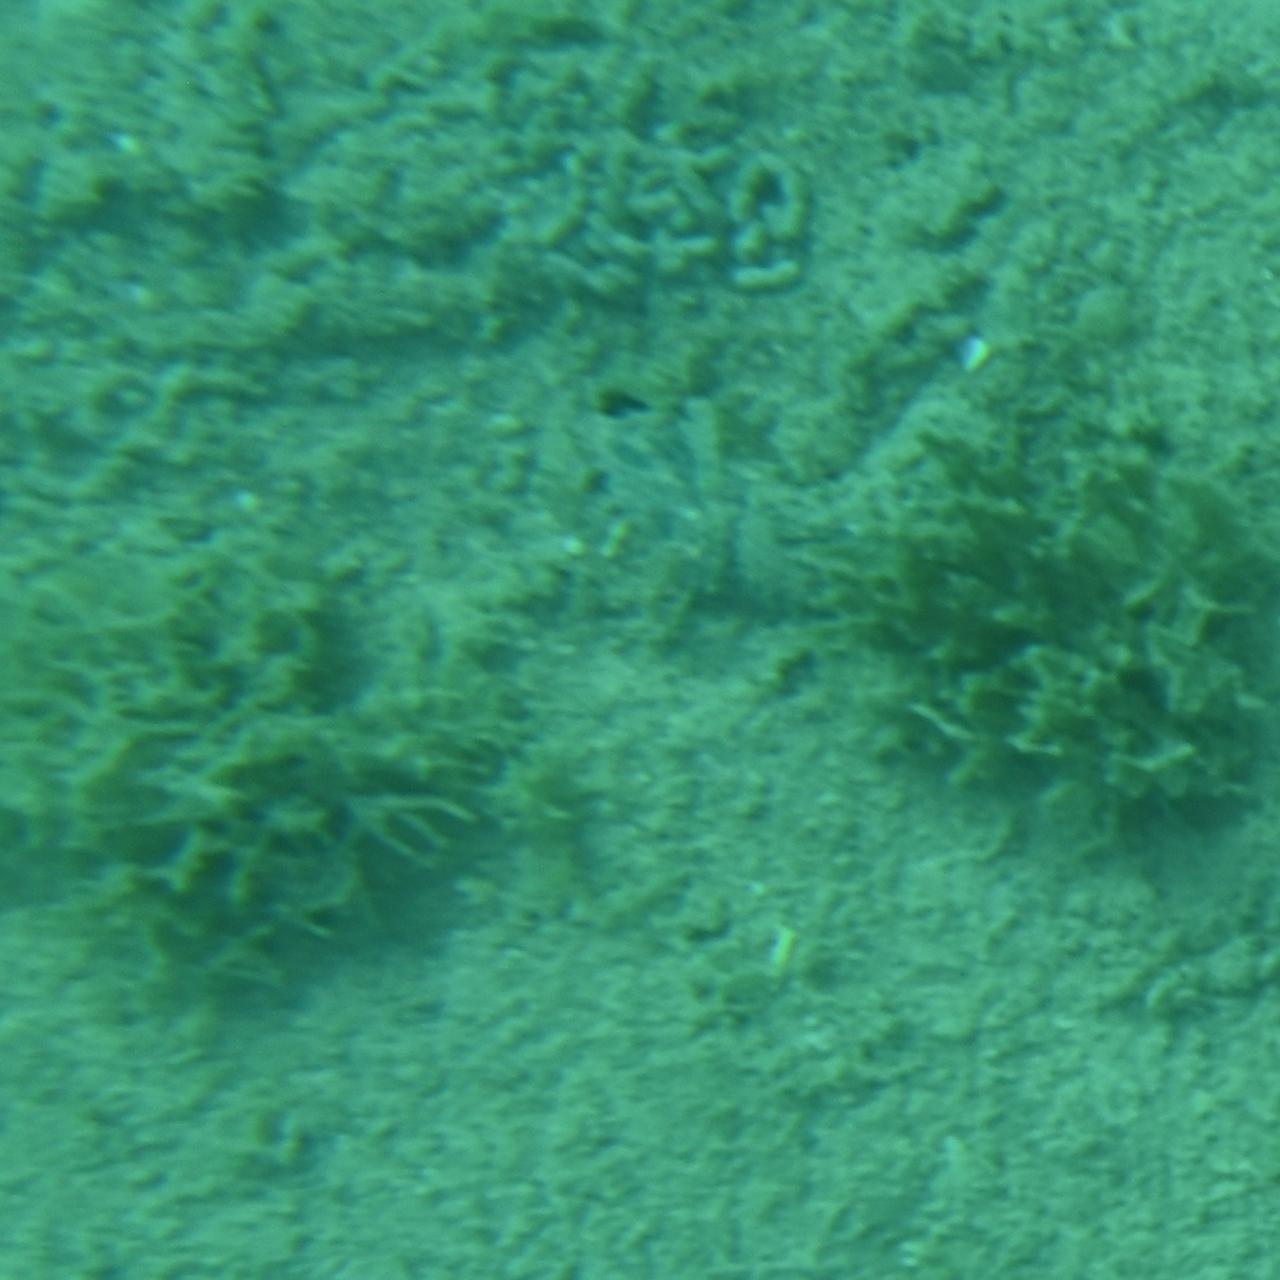Holothuria tubulosa: (692, 359, 1035, 658)
Phaeophyceae -cfr Cystoseira-: (0, 558, 522, 988), (853, 425, 1280, 837)
